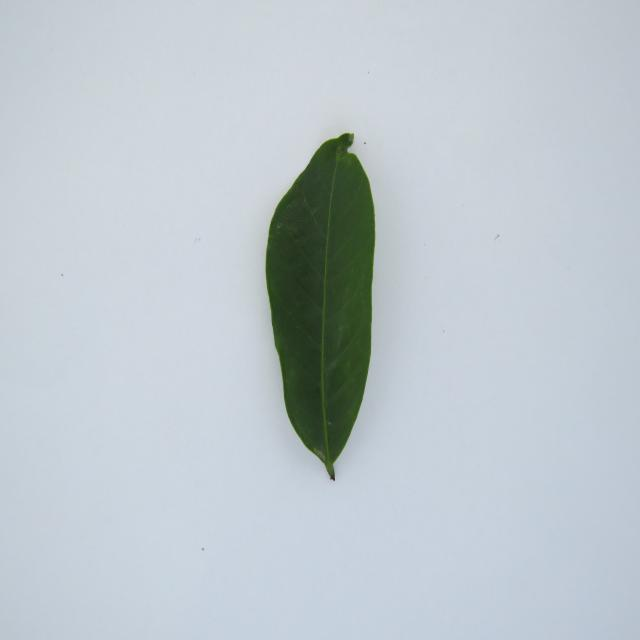DeficienciaNutricional-Boro: (266, 133, 375, 480)
